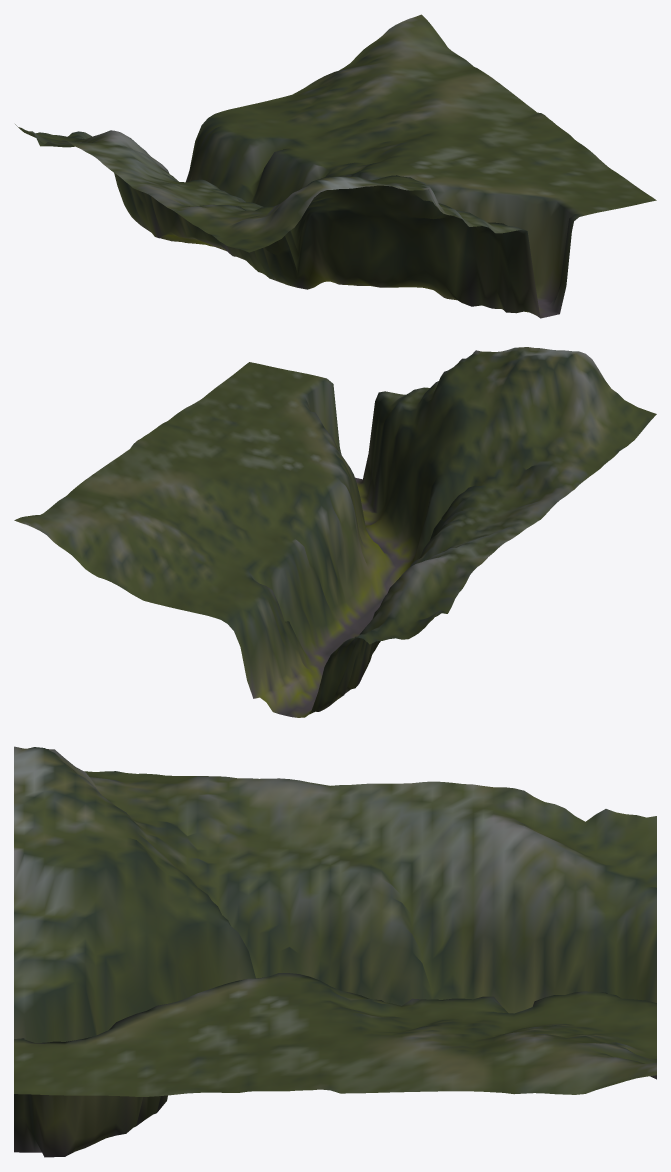
File: TownLandscape_Mesh_x0125_2_2.fbx
3 views of the same model, one above another, from view 1: azimuth 30°, elevation 25°; view 2: azimuth 150°, elevation 25°; view 3: azimuth 270°, elevation 25° (orthographic). The views are drawn at different scales.
Visible parts, largest first — view 1: Terrain; view 2: Terrain; view 3: Terrain.
Boxes of the visible parts, x1,y1,x2,y2 form: Terrain: [15, 14, 656, 318]; Terrain: [14, 347, 656, 717]; Terrain: [14, 746, 656, 1157].
Bounding box in the file's own units: 1024 × 500 × 1024.
